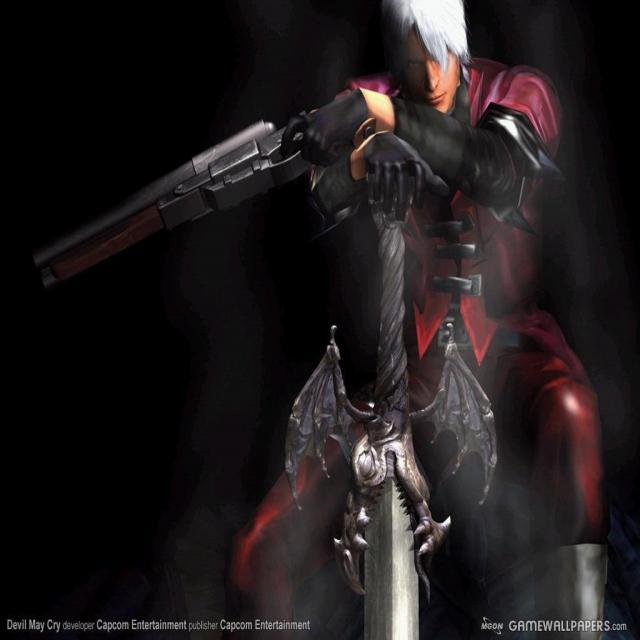weapon: (21, 107, 402, 296)
